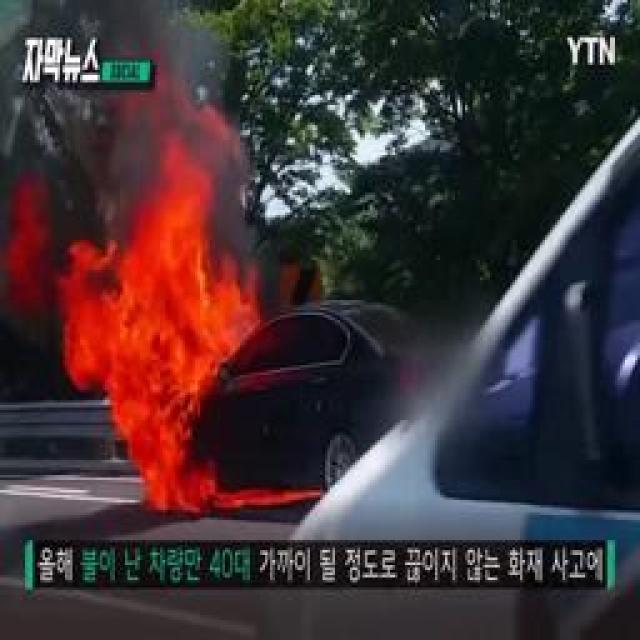Fire: (77, 182, 219, 512)
